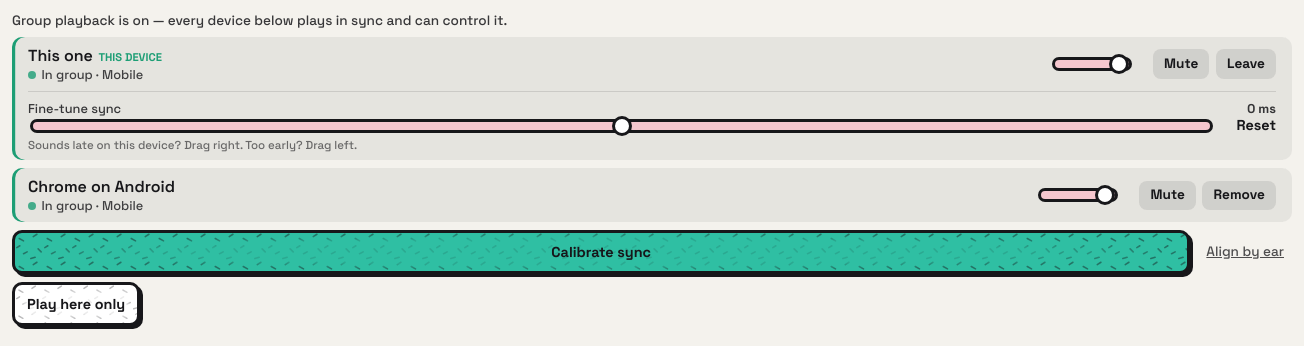
Test: Devices panel — membership buttons › the Leave button reports the pending leave and refuses a second tap
The image size is (1304, 346).
Click the button "Leave". click: (1246, 64)
box: top-left (1216, 50), bottom-right (1276, 79)
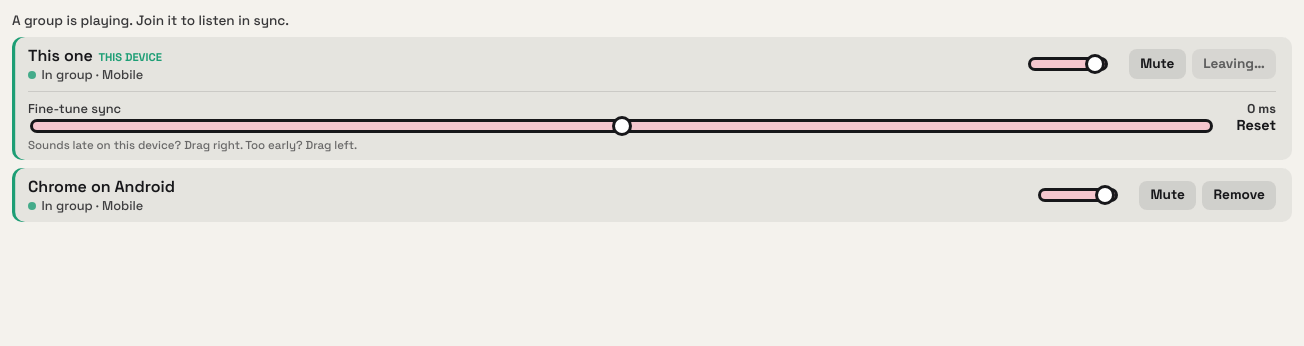
Check: the button "Leaving…" is shown
Check: the button "Leaving…" is disabled
Click the button "Leaving…". click: (1234, 64)
box: top-left (1192, 50), bottom-right (1276, 79)
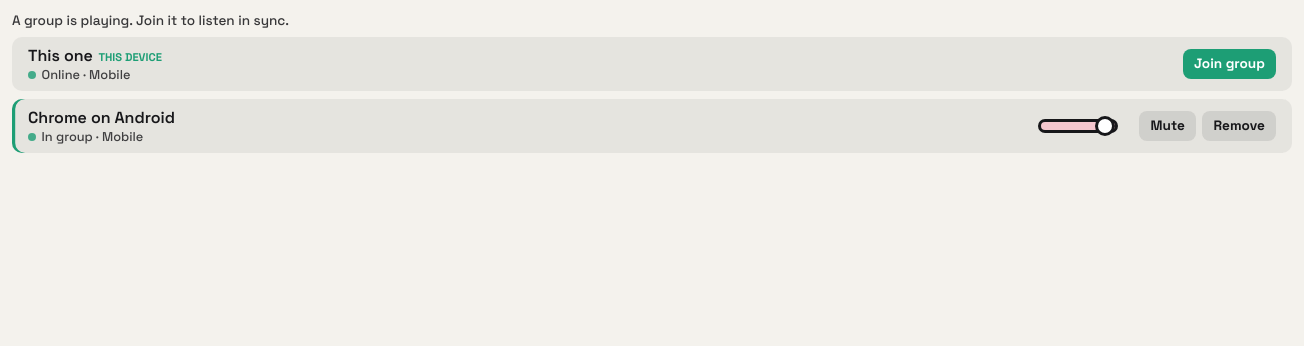
Check: the button "Join group" is enabled, box top-left (1183, 50), bottom-right (1276, 79)
